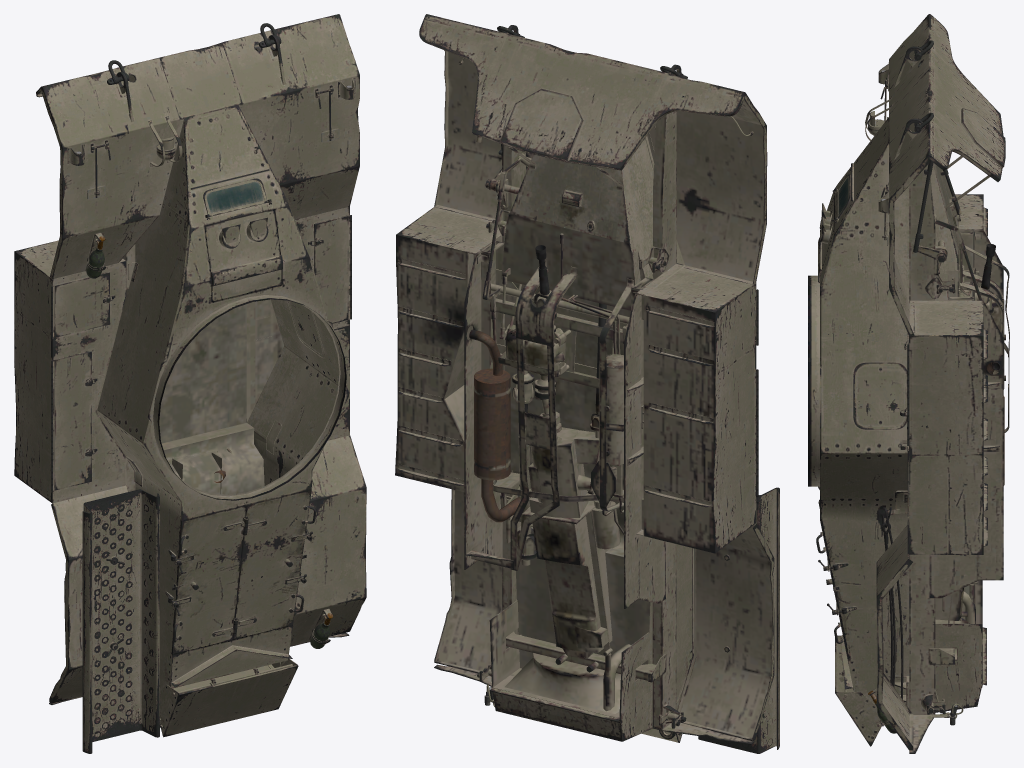
File: Hull.glb
3 views of the same model, side by side, from view 1: azimuth 30°, elevation 25°; view 2: azimuth 150°, elevation 25°; view 3: azimuth 270°, elevation 25° (orthographic). The views are drawn at different scales.
Visible parts, largest first — view 1: set_0_group_0; view 2: set_0_group_0; view 3: set_0_group_0.
Boxes of the visible parts, bbox=[...] form: set_0_group_0: bbox=[14, 14, 366, 753]; set_0_group_0: bbox=[395, 14, 779, 753]; set_0_group_0: bbox=[808, 14, 1009, 753].
Bounding box in the file's own units: 2.62 × 5.49 × 1.56.
Materials: 1 (1 with a texture image).
